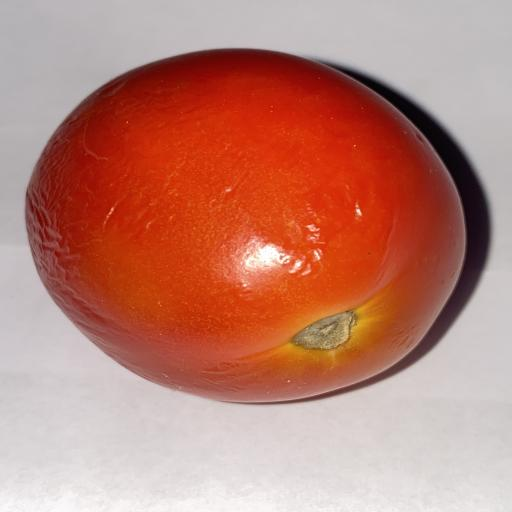spoiled: (26, 49, 465, 402)
